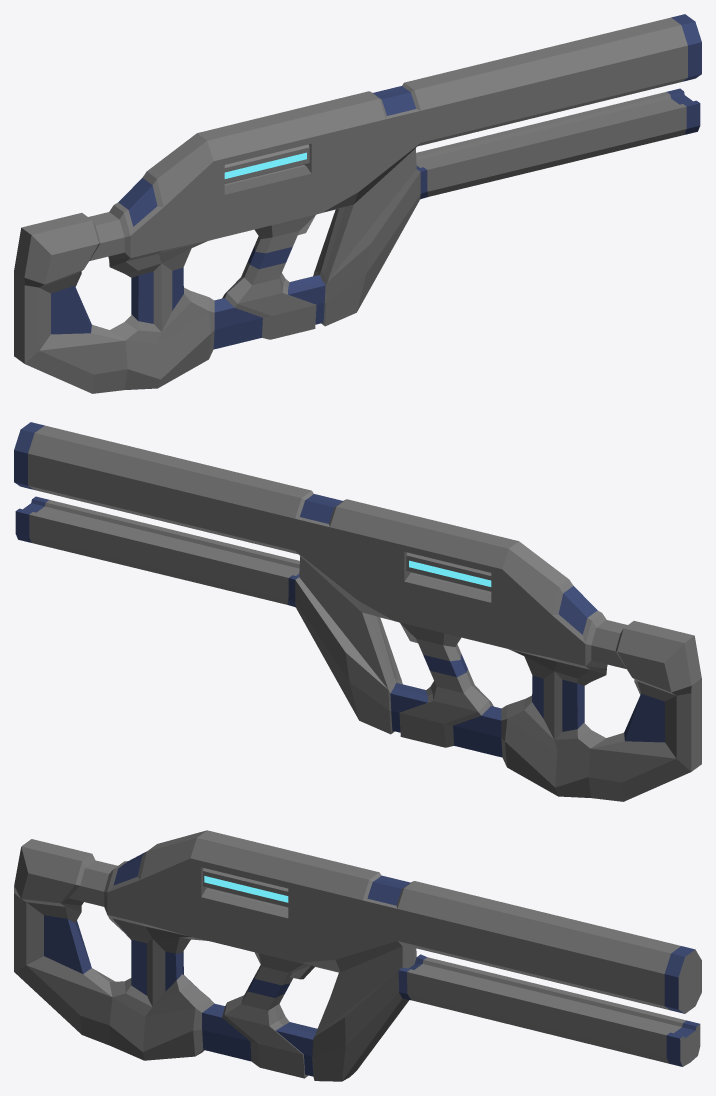
The model's file is Rifle.glb.
The picture shows the model from 3 angles, top to bottom: view 1: azimuth 30°, elevation 25°; view 2: azimuth 150°, elevation 25°; view 3: azimuth 330°, elevation 25°; orthographic projection.
Visible parts, largest first — view 1: AR; view 2: AR; view 3: AR.
Part boxes in pixels (x1,y1,x2,y2): AR: (14, 14, 701, 393); AR: (14, 422, 701, 801); AR: (14, 830, 701, 1081).
Size of the model in its own units: 0.8792 by 0.2943 by 0.058.
